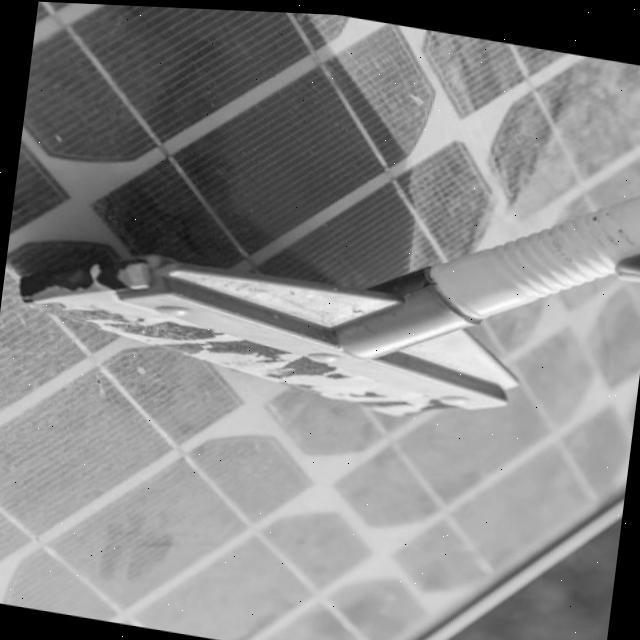Surface Contaminant: (0, 276, 640, 640), (302, 11, 640, 271)
